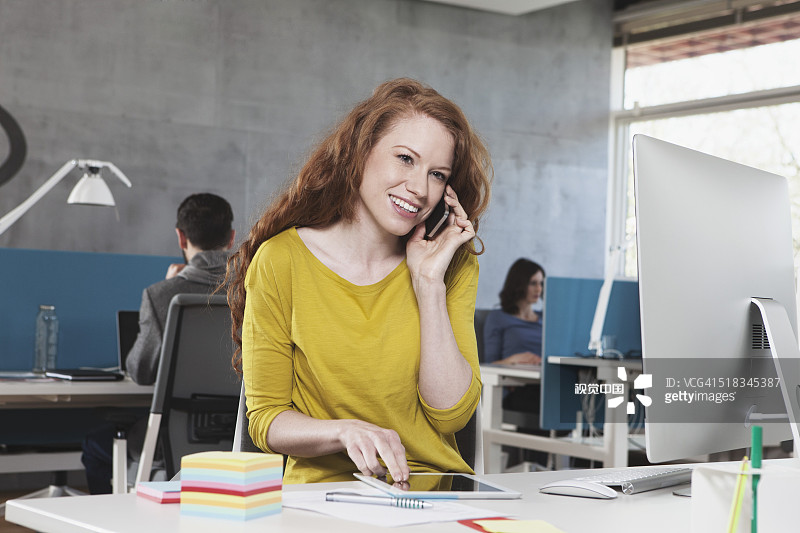calling: (399, 179, 493, 305)
no-phone: (325, 411, 416, 495)
